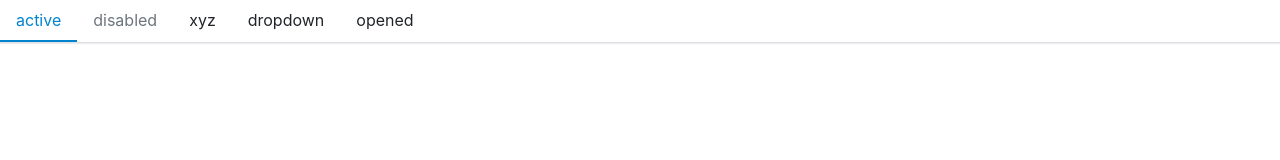
Test: test Menu and Menu.Item component in default(horizontal) mode › should show dropdown items when hover on Menu.SubMenu
Check: the text "drop1" is not shown
Hover over the text "dropdown" at (286, 20), box [248,8,324,32]
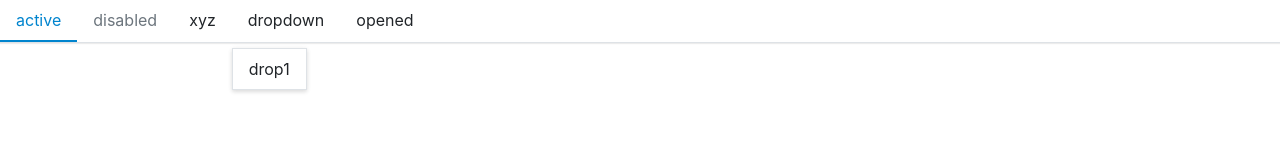
Check: the list item "drop1" is shown
Click the list item "drop1" at (269, 69), box [249,59,290,79]
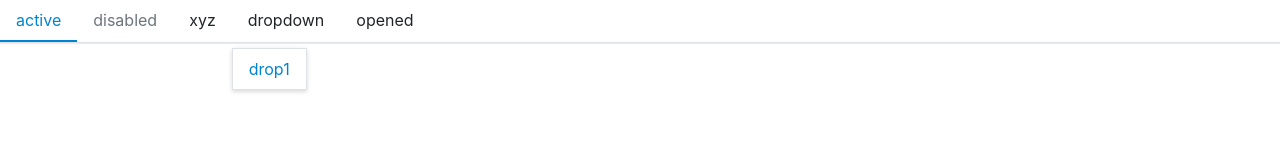
Move the pointer off the text "dropdown", box [248,8,324,32]
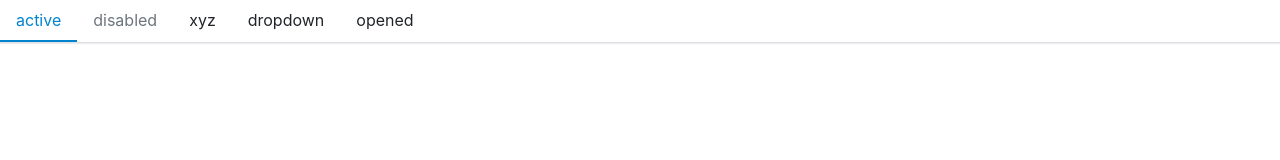
Check: the list item "drop1" is gone
